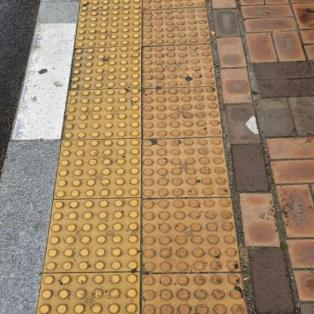Podoctatil: (30, 0, 251, 313)
